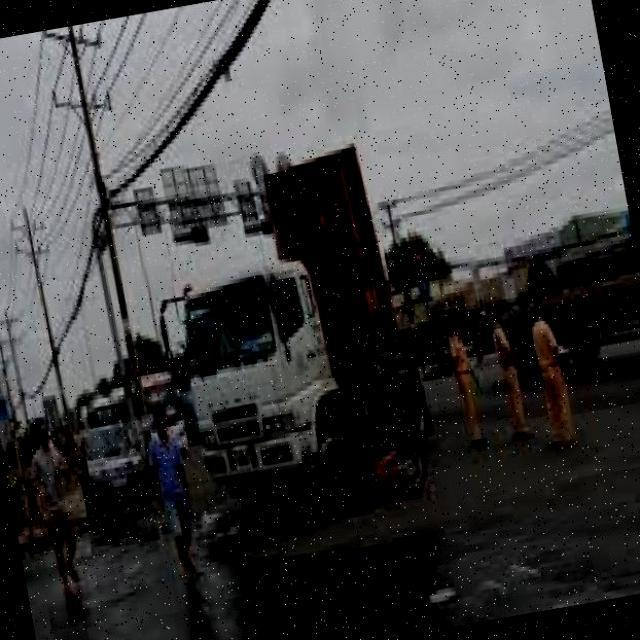accident: (339, 416, 437, 516)
